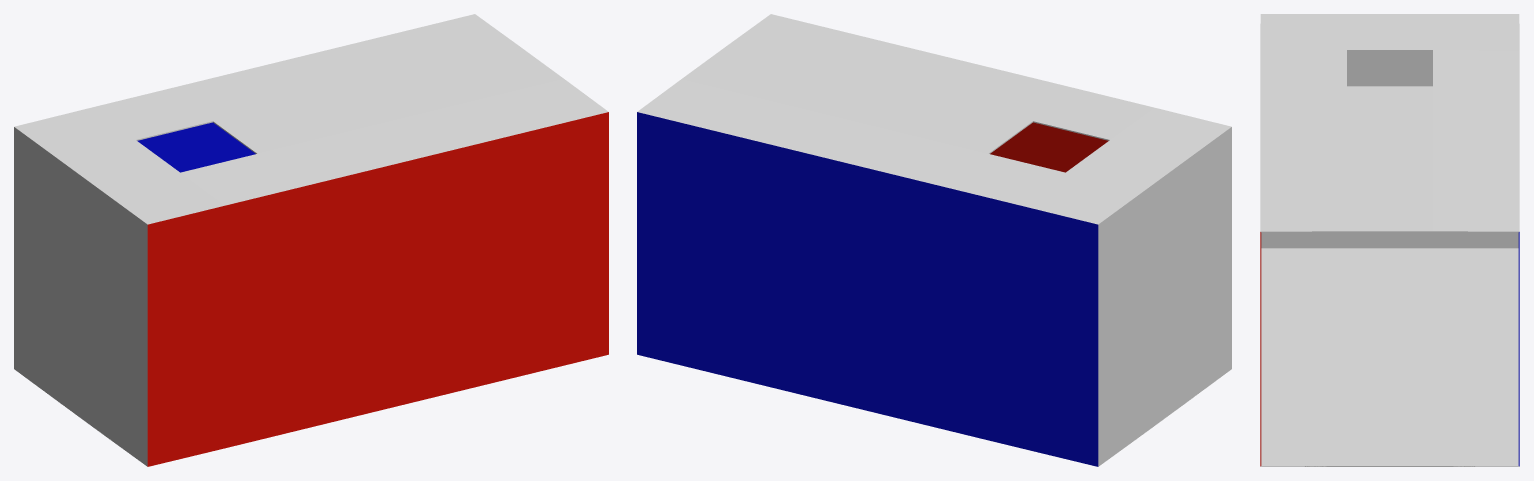
Rendered from cornell_box.glb.
The picture shows the model from 3 angles, left to right: view 1: azimuth 30°, elevation 25°; view 2: azimuth 150°, elevation 25°; view 3: azimuth 270°, elevation 25°; orthographic projection. The views are drawn at different scales.
Visible parts, largest first — view 1: Cube; view 2: Cube; view 3: Cube.
Part boxes in pixels (x1=…): Cube: x1=14, y1=14, x2=608, y2=466; Cube: x1=637, y1=14, x2=1231, y2=466; Cube: x1=1260, y1=14, x2=1519, y2=466.
Size of the model in its own units: 12.02 by 6.06 by 6.04.
